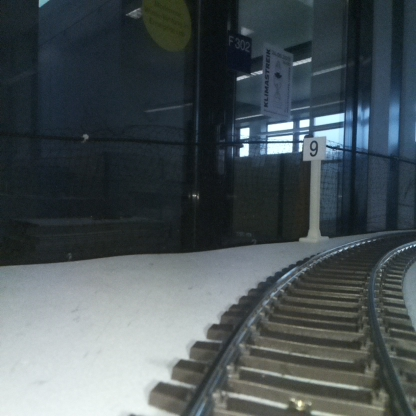white-info-9: (303, 137, 325, 241)
